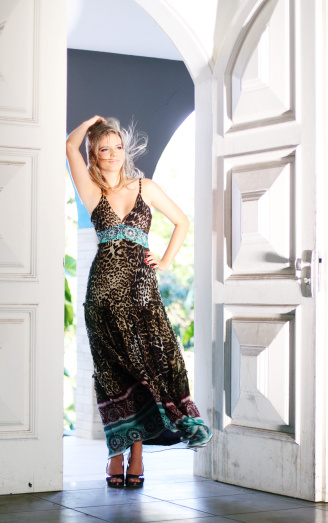em pe: (53, 94, 197, 501)
